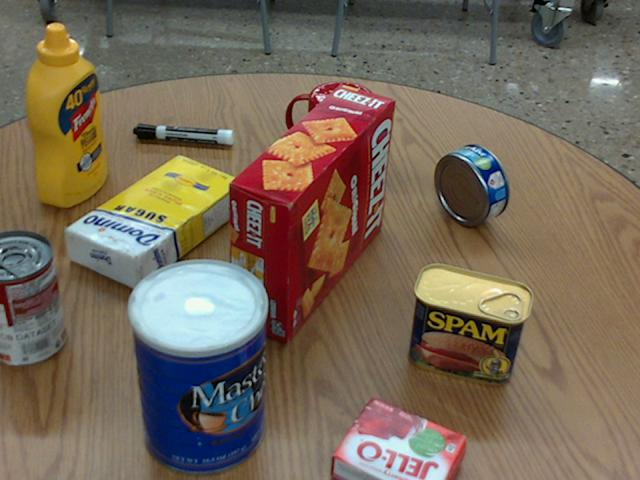cracker_box: (231, 84, 393, 340)
gelatin_box: (331, 397, 468, 479)
large_marker: (134, 123, 232, 144)
master_chef_can: (128, 259, 266, 475)
mug: (287, 82, 375, 174)
mustard_bottle: (28, 24, 106, 206)
potted_meat_can: (408, 262, 532, 384)
sugar_box: (64, 153, 242, 290)
tomato_soup_can: (0, 229, 64, 364)
tuna_fish_can: (433, 143, 508, 224)
